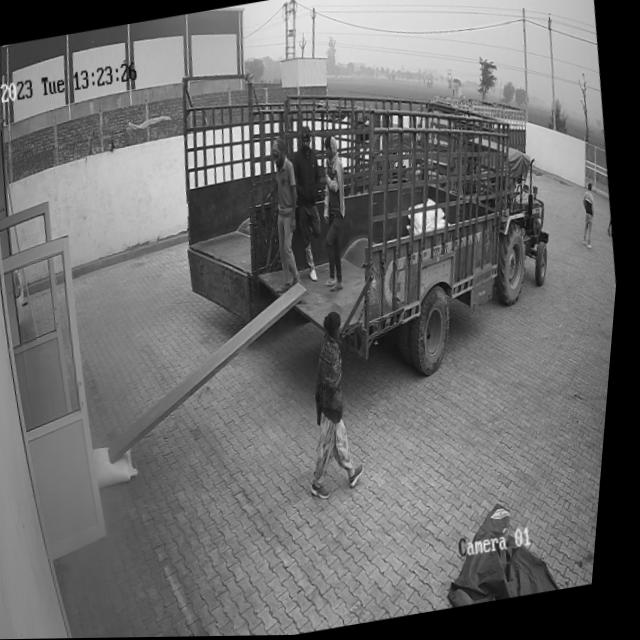sack: (98, 440, 149, 488)
